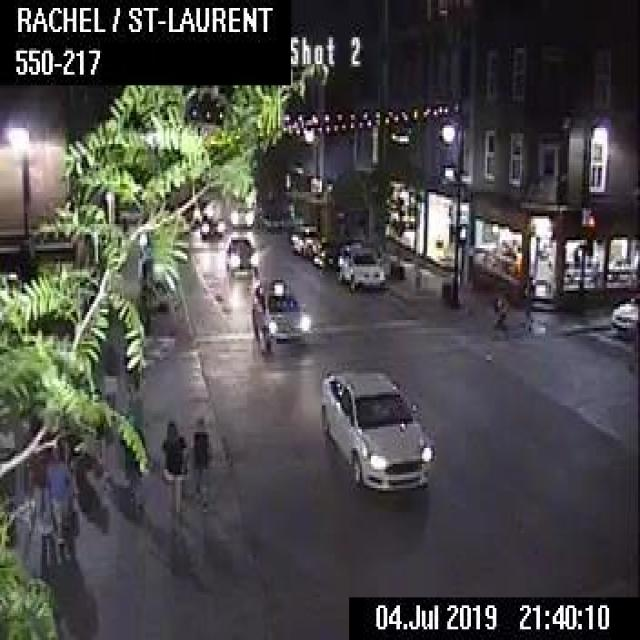pedestrian: (45, 440, 72, 554), (160, 416, 185, 517), (29, 465, 49, 567), (189, 411, 209, 512), (493, 291, 505, 336)
vehicle: (318, 365, 436, 488), (251, 278, 309, 352), (339, 241, 384, 291), (607, 290, 638, 338), (225, 234, 257, 274), (292, 222, 323, 258), (312, 237, 340, 270), (198, 214, 224, 238), (229, 204, 256, 227)
